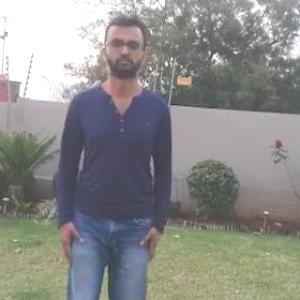follow: (66, 44, 168, 299)
